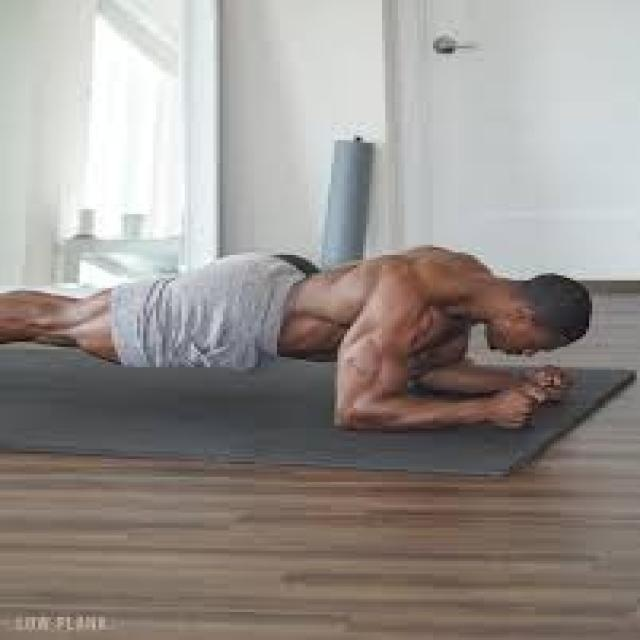plank: (0, 237, 602, 448)
